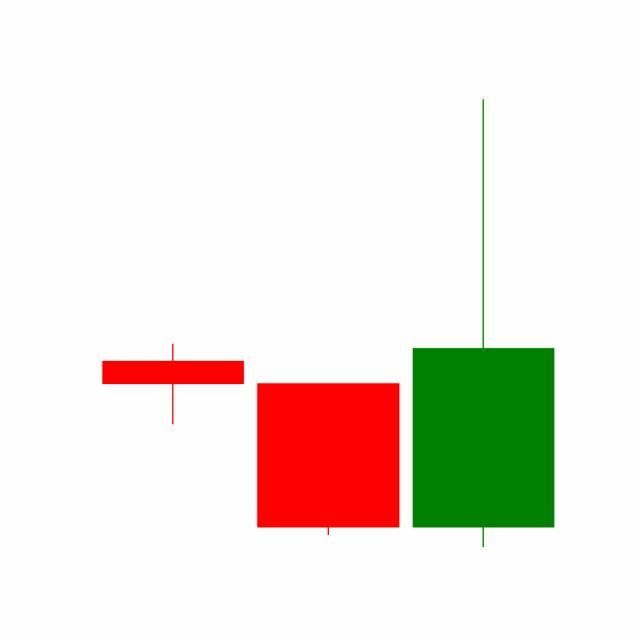Marubozu: (250, 382, 407, 537)
